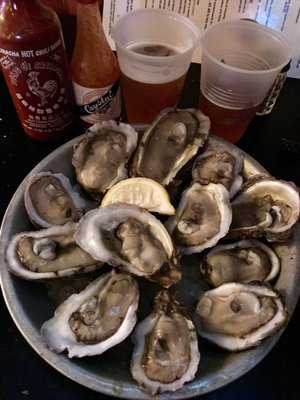pizza: (198, 20, 292, 143), (109, 6, 201, 126)
